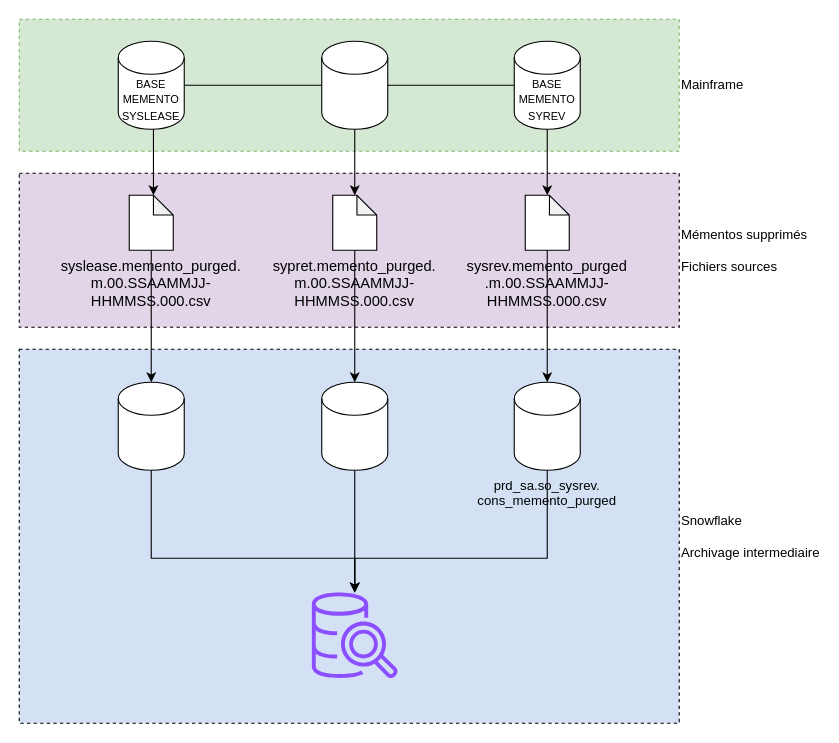
This 839x743 diagram has some shape labels left out. Each missing label, with the centre of its shape:
BASE MEMENTO SYPRET: point (354, 84)
PRD_S_RELATIONCLI.SO_MEMENTO. V_MEMENTO_PURGED: point (354, 635)
prd_sa.so_sypret. cons_memento_purged: point (354, 425)
prd_sa.so_syslease. cons_memento_purged: point (150, 425)
